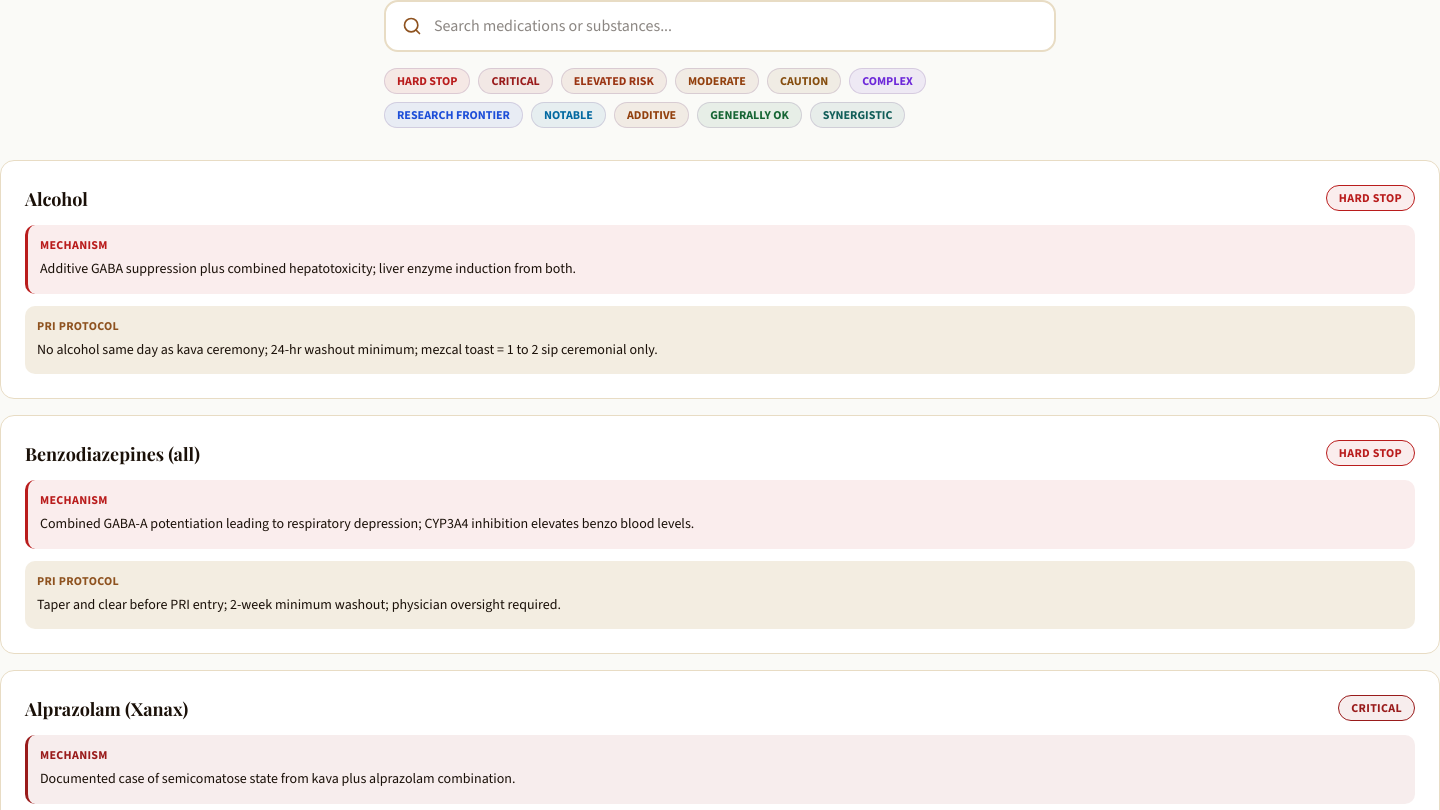
Test: InteractionsExplorer › the clear-search (X) button has an accessible name
The image size is (1440, 810).
Type "a" into the field with placeholder "Search medications or substances..." at (736, 26), box [434,14,1038,38]
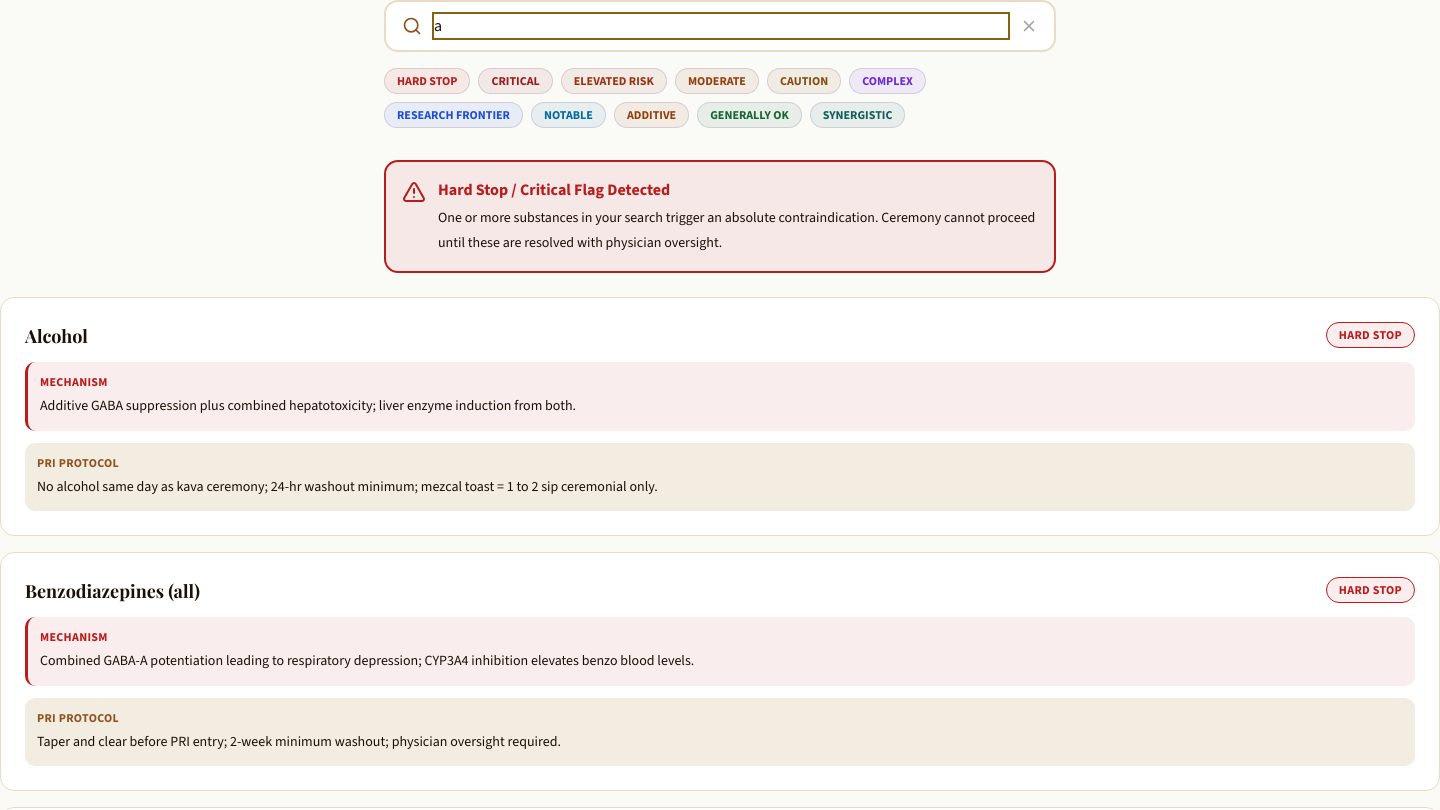
Expected: the button named "clear" is shown, [1020,17,1038,35]
